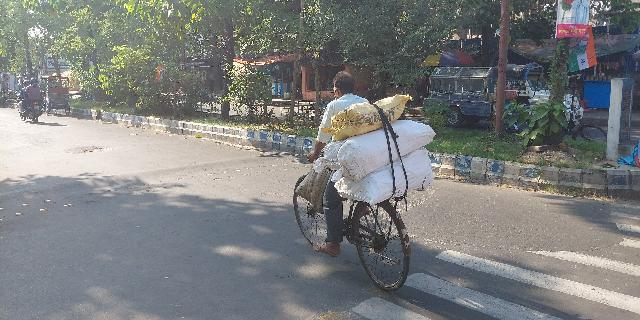Cycle: (288, 65, 412, 292)
Motorbike: (15, 73, 44, 122)
